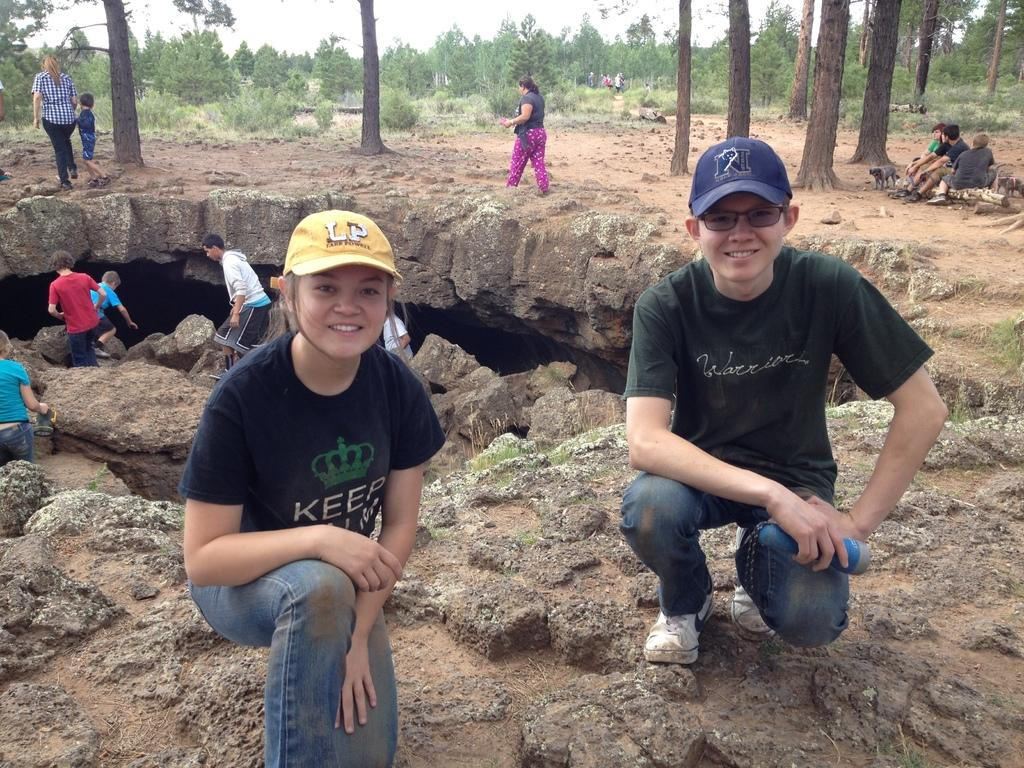Hat: (690, 138, 794, 222), (282, 210, 402, 282)
